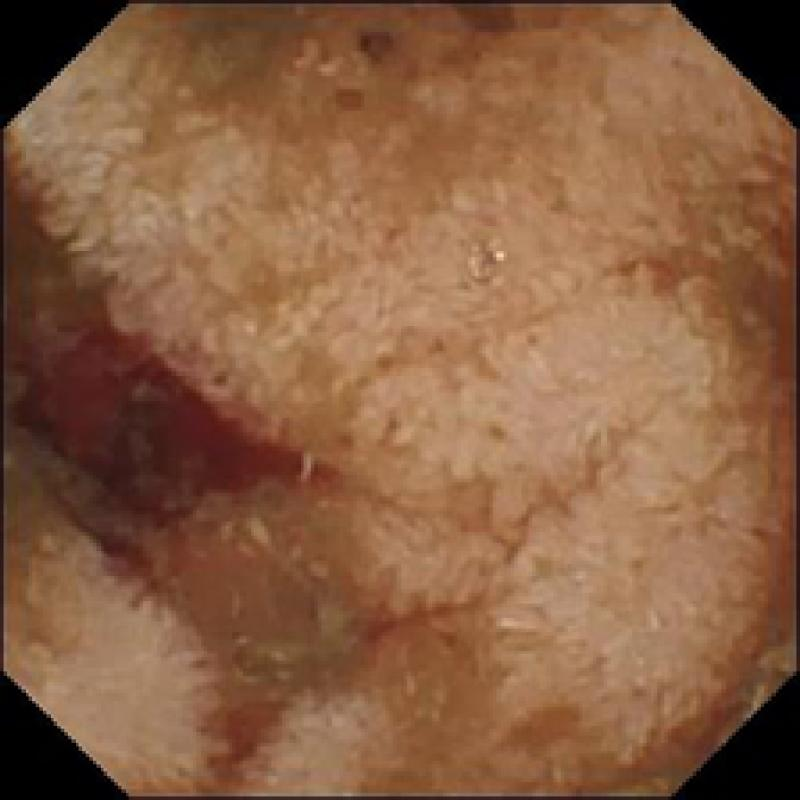bleeding: (11, 293, 339, 596), (199, 686, 292, 790), (370, 596, 481, 646)
